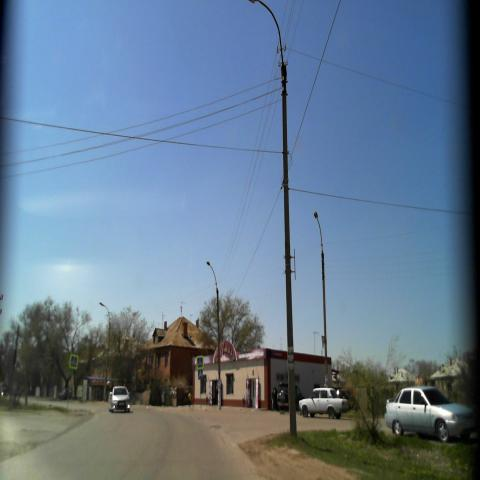5_19_1: (70, 352, 80, 371), (196, 355, 204, 369)
5_20: (198, 369, 204, 381)
